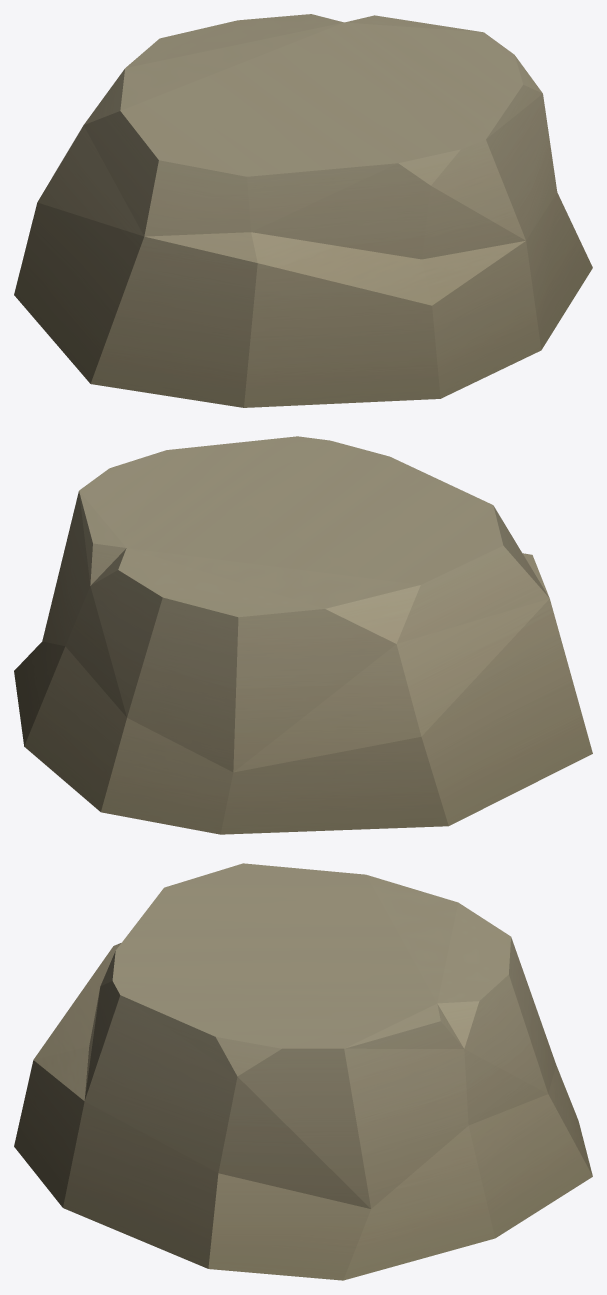
The model's file is Rock_02.fbx.
3 renders of one model, top to bottom at view 1: azimuth 30°, elevation 25°; view 2: azimuth 150°, elevation 25°; view 3: azimuth 270°, elevation 25°, orthographic.
Visible parts, largest first — view 1: Rock_02; view 2: Rock_02; view 3: Rock_02.
Part boxes in pixels (box(x1,y1,x2,y2)): Rock_02: box(14, 14, 592, 407); Rock_02: box(14, 436, 592, 834); Rock_02: box(14, 863, 592, 1280).
Size of the model in its own units: 352 by 128 by 335.
